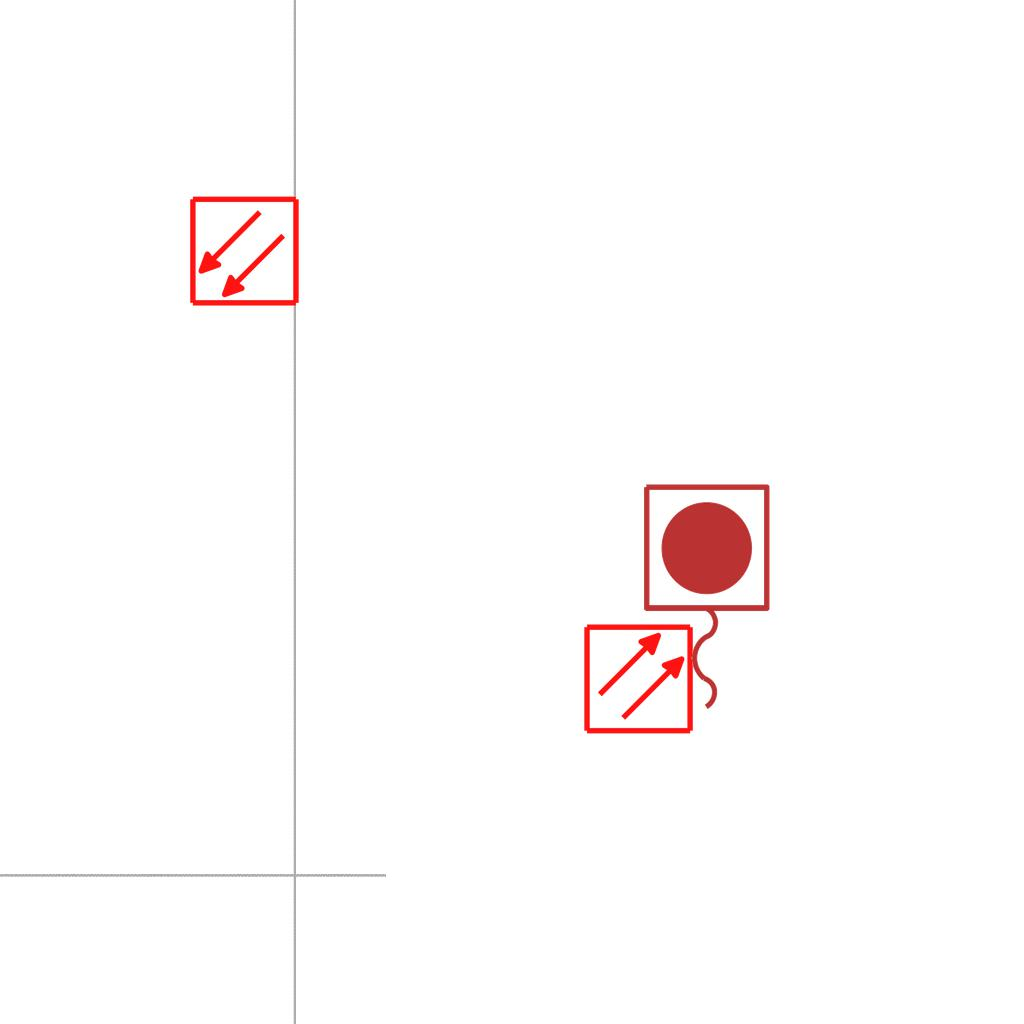RMO_Rauchmelder_optischer: (582, 622, 695, 735), (188, 195, 301, 308)
Zugtaster: (633, 476, 777, 720)
